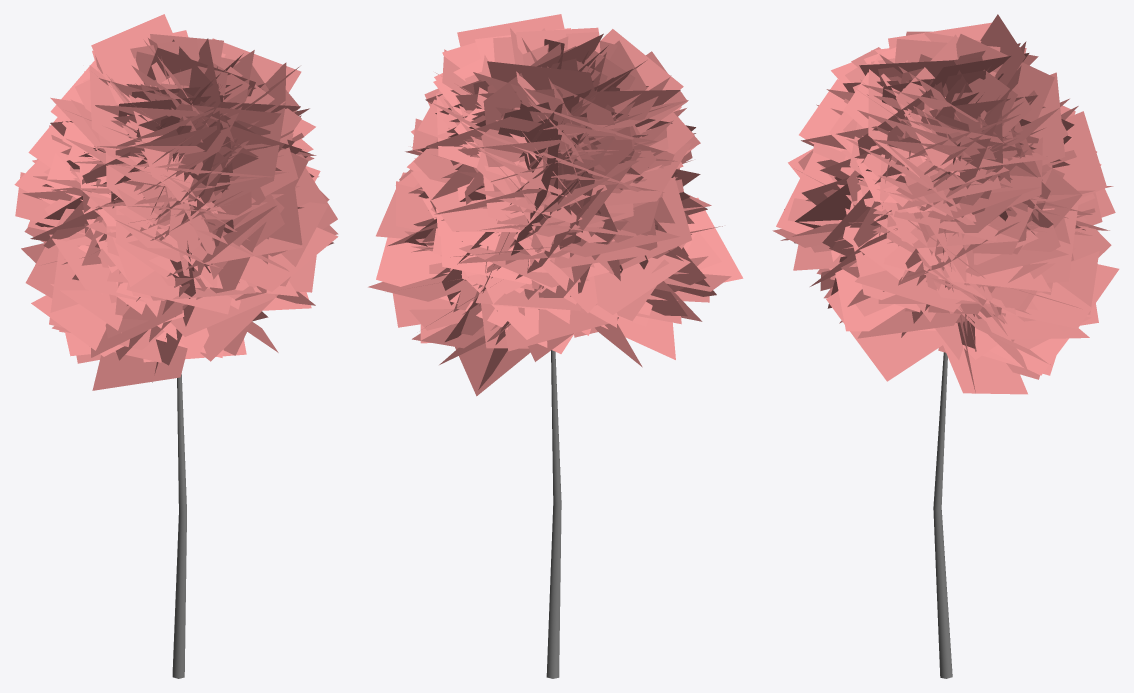
File: SM_tree6.fbx
3 views of the same model, side by side, from view 1: azimuth 30°, elevation 25°; view 2: azimuth 150°, elevation 25°; view 3: azimuth 270°, elevation 25° (orthographic).
Visible parts, largest first — view 1: SM_tree6; view 2: SM_tree6; view 3: SM_tree6.
Part boxes in pixels (x1=…): SM_tree6: x1=14, y1=14, x2=338, y2=678; SM_tree6: x1=368, y1=14, x2=743, y2=678; SM_tree6: x1=772, y1=14, x2=1119, y2=678.
Size of the model in its own units: 256 by 521 by 258.
